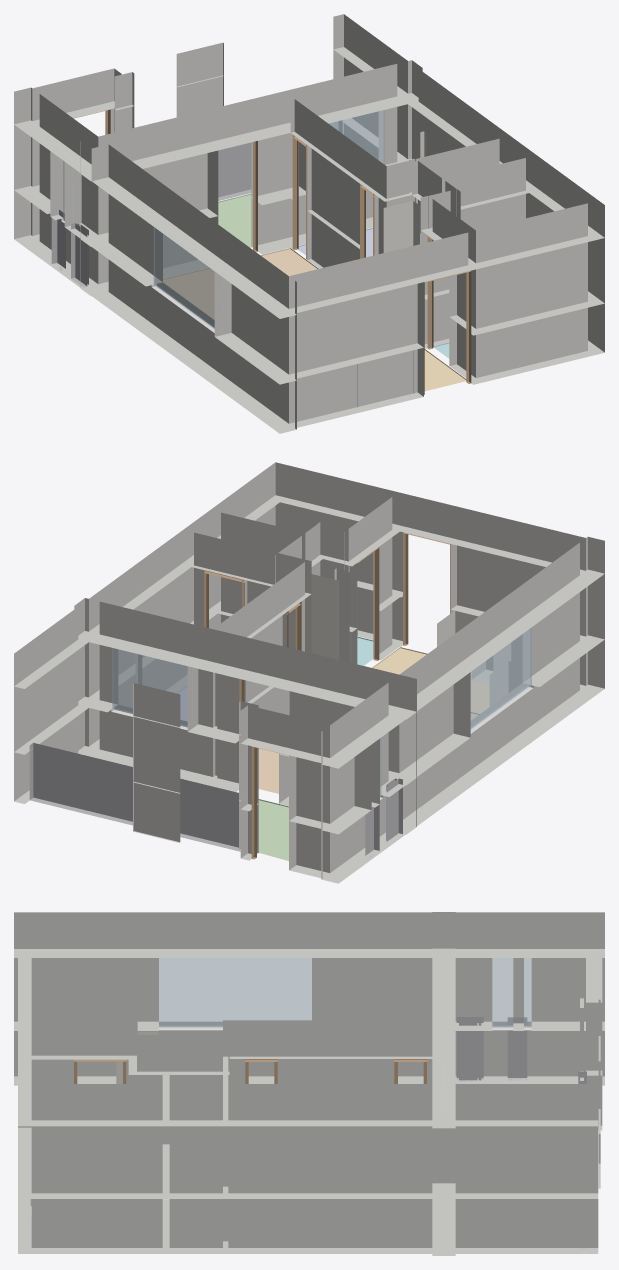
3 renders of one model, top to bottom at view 1: azimuth 30°, elevation 25°; view 2: azimuth 150°, elevation 25°; view 3: azimuth 270°, elevation 25°, orthographic. The views are drawn at different scales.
Parts seen in each view (by area): view 1: walls, window_3, railings, floor_0_Living_Room, furniture_1_closet, window_0, floor_6_Outdoor, door_7, floor_2_Kitchen, door_1, door_9; view 2: walls, railings, window_3, window_0, furniture_1_closet, floor_6_Outdoor, floor_2_Kitchen, furniture_2_closet, furniture_4_appliance, floor_0_Living_Room, door_4, door_1 (+3 smaller); view 3: walls, window_3, railings, window_8, window_10.
Part boxes in pixels (x1,y1,x2,y2): walls: (14, 14, 604, 433); window_3: (153, 227, 223, 332); railings: (51, 120, 342, 287); floor_0_Living_Room: (163, 248, 318, 319); furniture_1_closet: (383, 201, 420, 252); window_0: (324, 110, 384, 164); floor_6_Outdoor: (218, 193, 251, 247); door_7: (292, 135, 307, 259); floor_2_Kitchen: (424, 349, 466, 391); door_1: (424, 270, 471, 394); door_9: (360, 184, 374, 258); walls: (14, 462, 604, 883); railings: (29, 743, 402, 857); window_3: (470, 623, 531, 729); window_0: (112, 648, 187, 726); furniture_1_closet: (311, 574, 339, 659); floor_6_Outdoor: (258, 799, 288, 860); floor_2_Kitchen: (372, 647, 489, 713); furniture_2_closet: (334, 568, 349, 662); furniture_4_appliance: (490, 661, 522, 706); floor_0_Living_Room: (258, 712, 479, 793); door_4: (357, 547, 379, 660); door_1: (403, 532, 450, 645); walls: (14, 912, 604, 1255); window_3: (159, 958, 311, 1026); railings: (456, 1017, 586, 1248); window_8: (492, 953, 513, 1026); window_10: (524, 958, 531, 1026).
Bounding box in the file's own units: 6.34 × 2.72 × 8.81.
